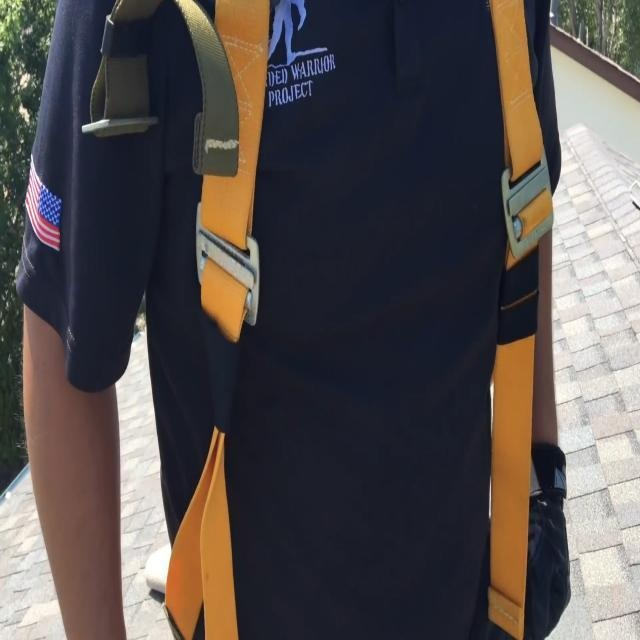Arnes_seguridad: (79, 0, 553, 640)
